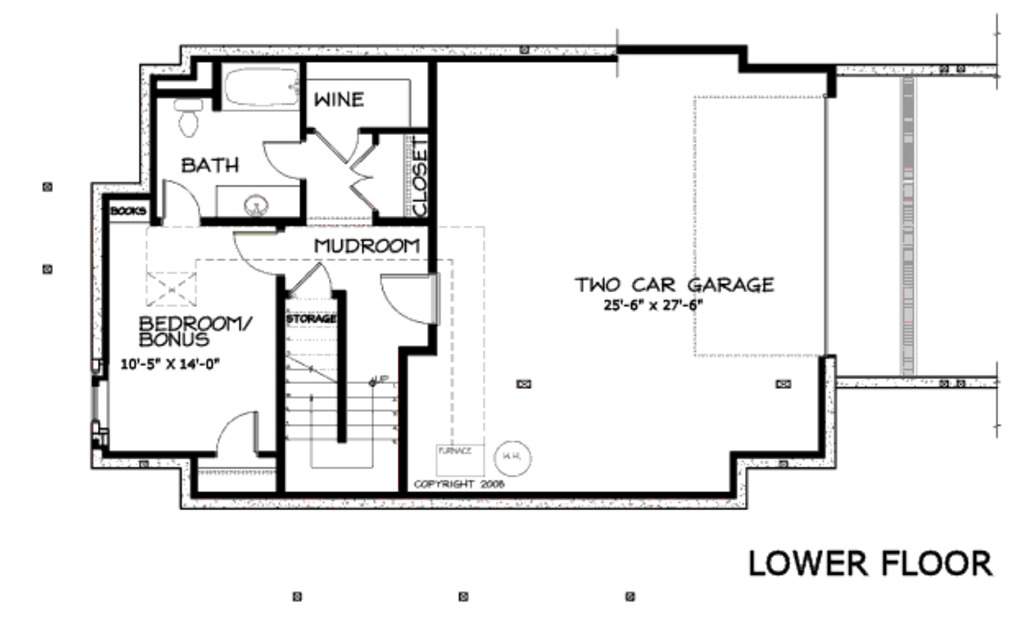door: (367, 265, 455, 329), (342, 130, 402, 221), (148, 178, 215, 237), (205, 407, 275, 461), (232, 230, 291, 279), (280, 262, 347, 303), (258, 131, 306, 183), (312, 119, 362, 166)
large_sink: (163, 92, 210, 141)
small_sink: (218, 177, 299, 220)
stairs: (275, 291, 403, 487)
tub: (218, 55, 311, 111)
